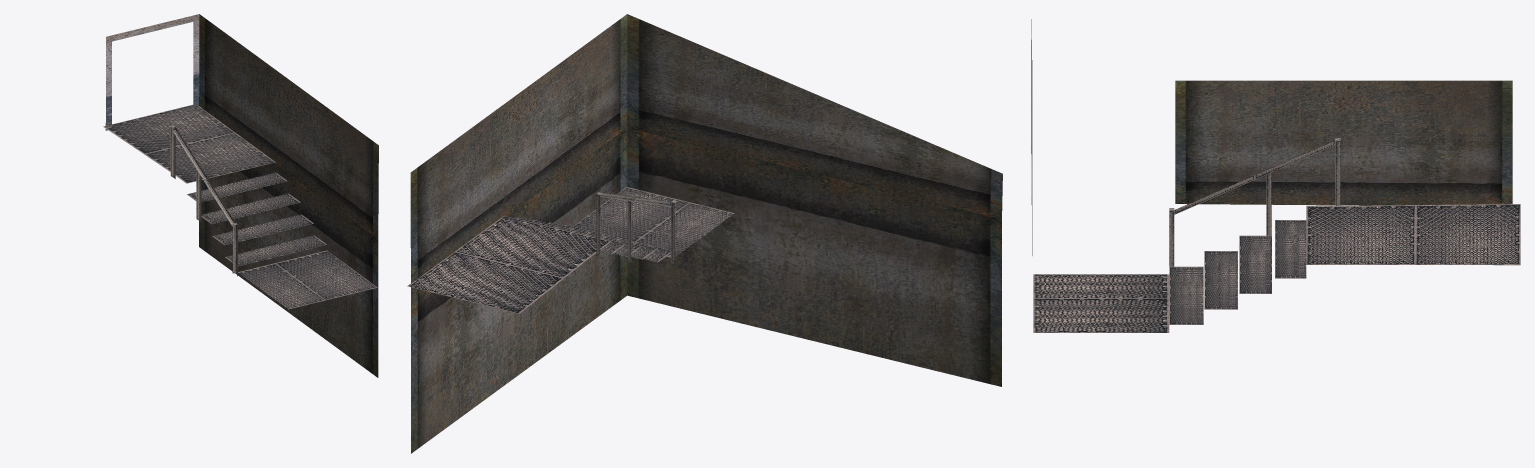
Rendered from M11Sewer_Entrance01.glb.
The picture shows the model from 3 angles, left to right: view 1: azimuth 30°, elevation 25°; view 2: azimuth 150°, elevation 25°; view 3: azimuth 270°, elevation 25°; orthographic projection. The views are drawn at different scales.
Parts seen in each view (by area): view 1: M11SEWER_ENTRANCE01; view 2: M11SEWER_ENTRANCE01; view 3: M11SEWER_ENTRANCE01.
Boxes of the visible parts, x1=… form: M11SEWER_ENTRANCE01: x1=103, y1=14, x2=378, y2=377; M11SEWER_ENTRANCE01: x1=407, y1=14, x2=1002, y2=453; M11SEWER_ENTRANCE01: x1=1031, y1=19, x2=1520, y2=332.
Bounding box in the file's own units: 7.03 × 5.03 × 7.14.
Materials: 5 (5 with a texture image).
